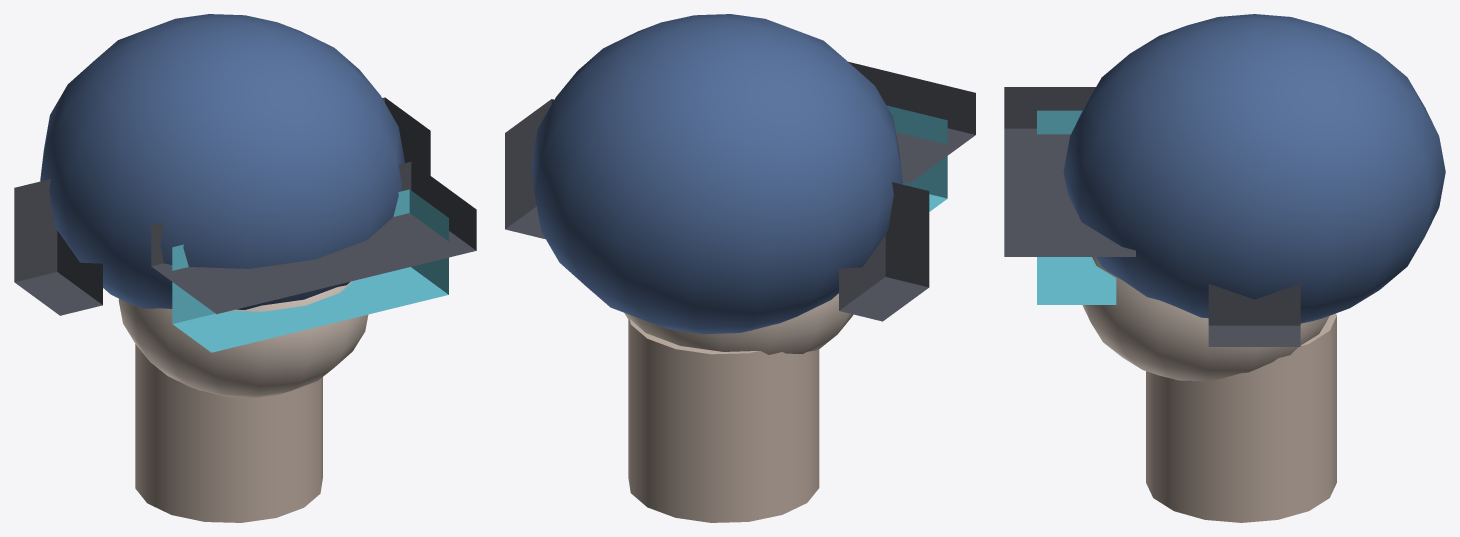
The model's file is police_head_m2.glb.
3 views of the same model, side by side, from view 1: azimuth 30°, elevation 25°; view 2: azimuth 150°, elevation 25°; view 3: azimuth 270°, elevation 25° (orthographic).
Visible parts, largest first — view 1: police_head; view 2: police_head; view 3: police_head.
Boxes of the visible parts, x1,y1,x2,y2 form: police_head: (14,14,476,522); police_head: (505,14,975,522); police_head: (1004,14,1445,522).
Size of the model in its own units: 0.328 by 0.375 by 0.335.
